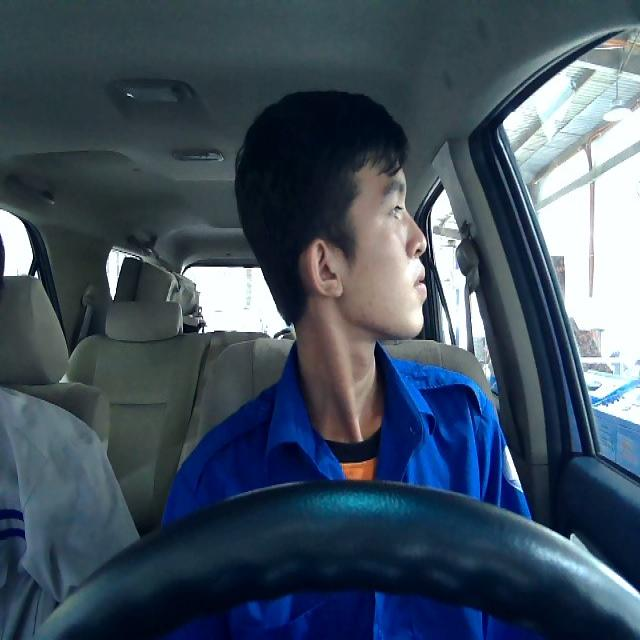seeing_right: (303, 144, 429, 341)
